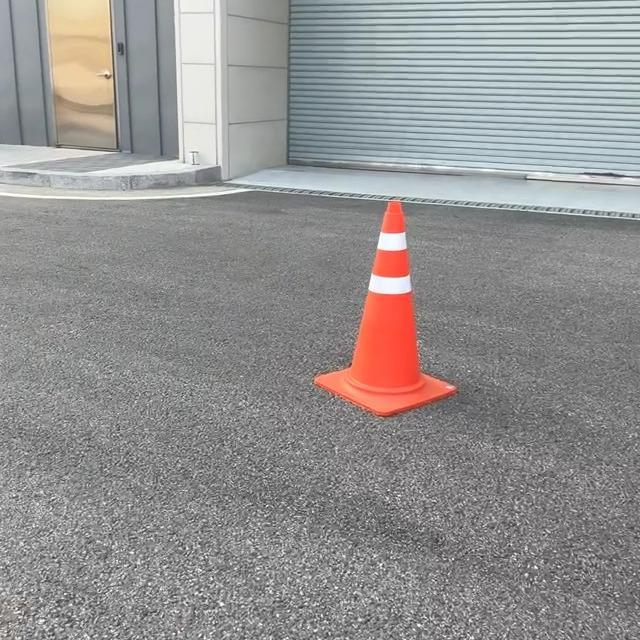fallen_object: (306, 202, 489, 412)
